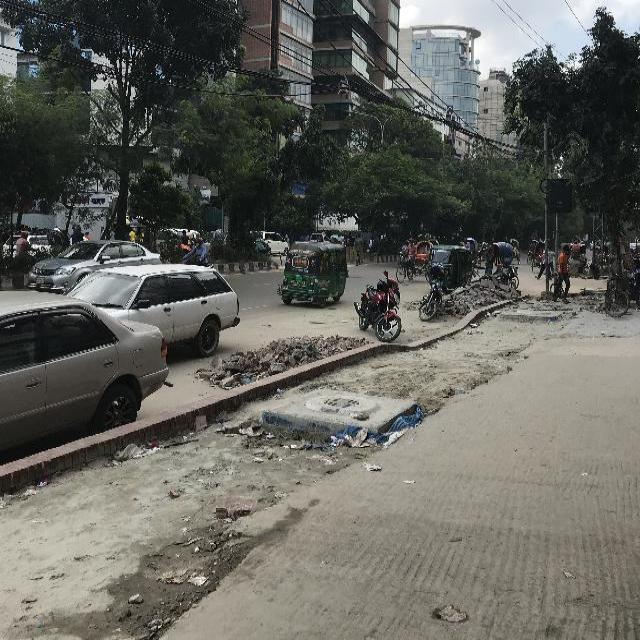bike: (354, 271, 404, 340), (605, 271, 630, 320), (422, 266, 445, 319), (180, 238, 216, 267), (504, 259, 519, 289), (550, 271, 564, 299), (257, 234, 270, 258), (397, 241, 408, 264)
vehicle: (3, 288, 171, 452), (72, 273, 245, 360), (32, 239, 160, 299), (278, 242, 350, 308), (472, 242, 514, 282), (397, 240, 432, 282), (5, 233, 56, 257), (256, 230, 290, 255), (48, 229, 79, 253), (463, 237, 483, 274), (574, 245, 593, 275), (533, 243, 551, 273), (509, 239, 521, 263), (528, 241, 539, 264), (330, 235, 342, 243)
